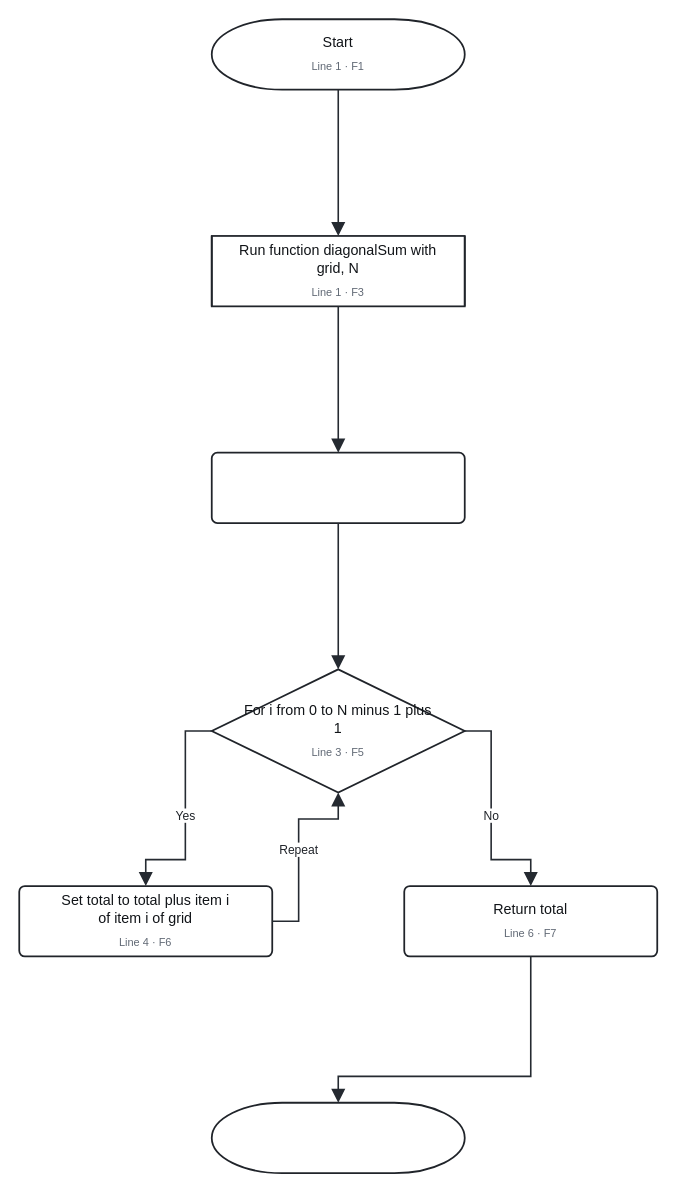
Some shapes in this 678 by 1194 pixel diagram are drawn without their labels. Each missing label, with the box of its shape:
End Line 1 · F2: (210, 1101, 465, 1173)
Set total to 0 Line 2 · F4: (210, 451, 465, 523)
